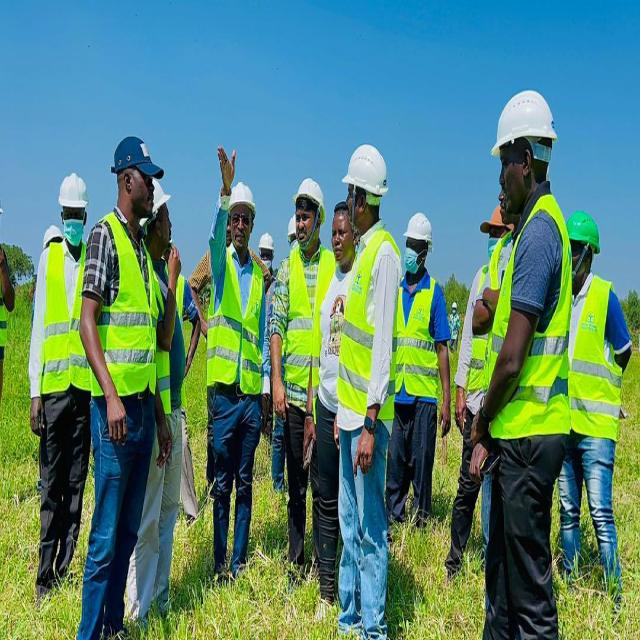pants: (75, 398, 157, 640), (337, 421, 390, 640), (36, 391, 91, 601), (210, 391, 263, 580)
vest: (485, 194, 572, 442), (336, 230, 403, 423), (90, 213, 158, 399), (569, 270, 621, 449), (206, 246, 266, 397), (282, 244, 337, 391), (41, 241, 91, 398), (394, 272, 439, 398)
